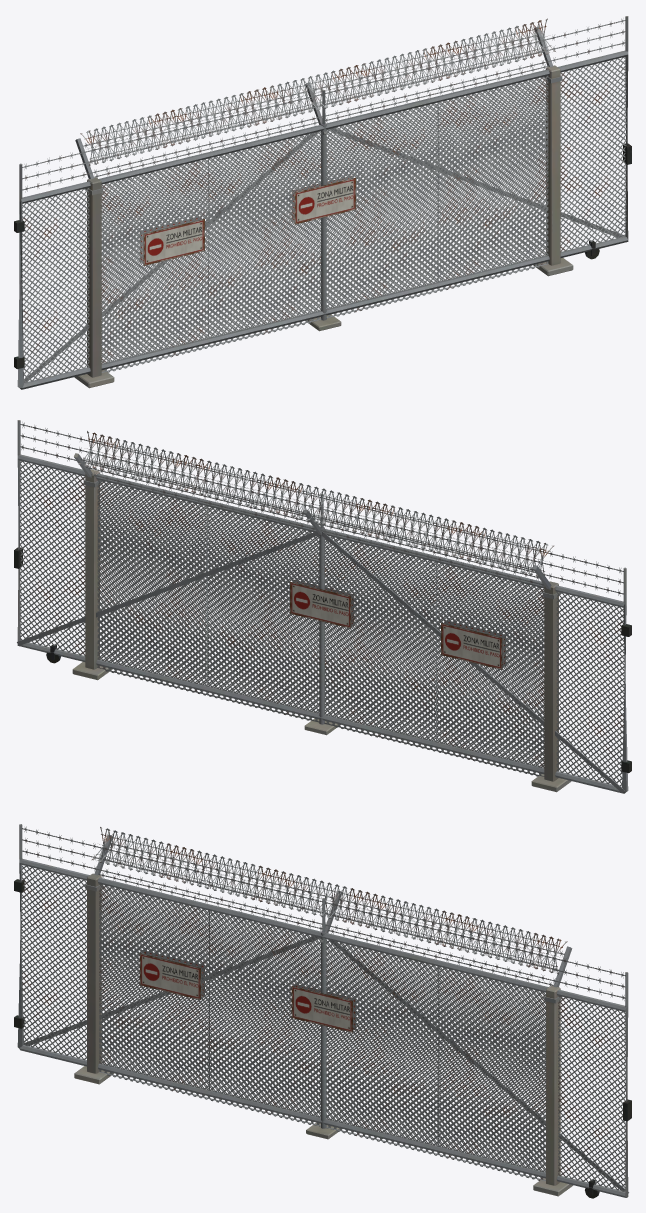
Rendered from base_fence.glb.
3 views of the same model, one above another, from view 1: azimuth 30°, elevation 25°; view 2: azimuth 150°, elevation 25°; view 3: azimuth 330°, elevation 25° (orthographic).
Visible parts, largest first — view 1: gate_leaf_mesh, lod0, gate_leaf, post_end, sign_warning; view 2: gate_leaf_mesh, lod0, gate_leaf, post_end, sign_warning; view 3: gate_leaf_mesh, lod0, gate_leaf, post_end, sign_warning.
Part boxes in pixels (x1,y1,x2,y2): gate_leaf_mesh: (21,18,626,382); lod0: (74,18,555,388); gate_leaf: (14,16,631,389); post_end: (533,26,573,276); sign_warning: (291,175,355,224); gate_leaf_mesh: (19,422,624,786); lod0: (78,431,571,792); gate_leaf: (14,420,631,793); post_end: (72,453,112,680); sign_warning: (290,579,354,628); gate_leaf_mesh: (21,826,625,1191); lod0: (74,827,567,1180); gate_leaf: (14,824,631,1198); post_end: (533,946,573,1196); sign_warning: (291,985,355,1032).
Size of what is drawn, in the model's own units: 8.03 by 3.09 by 0.5614.
2 materials, 2 textured.
